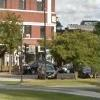Tree: (54, 19, 100, 89)
